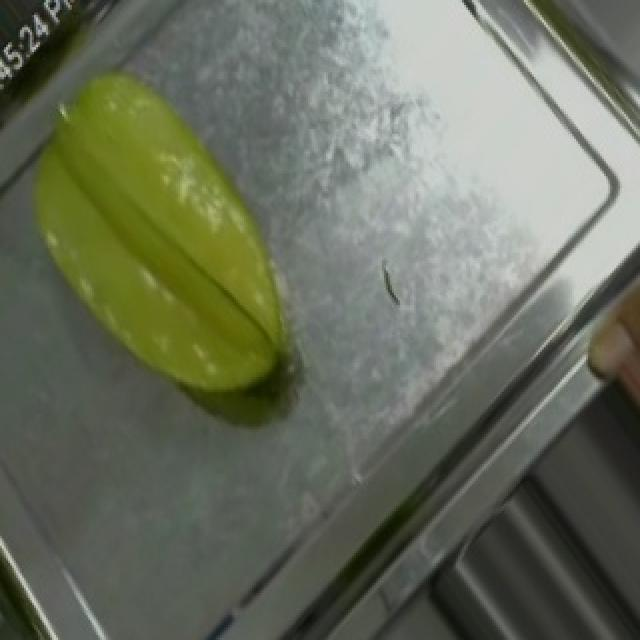fruit: (2, 27, 350, 434), (574, 216, 640, 511)
